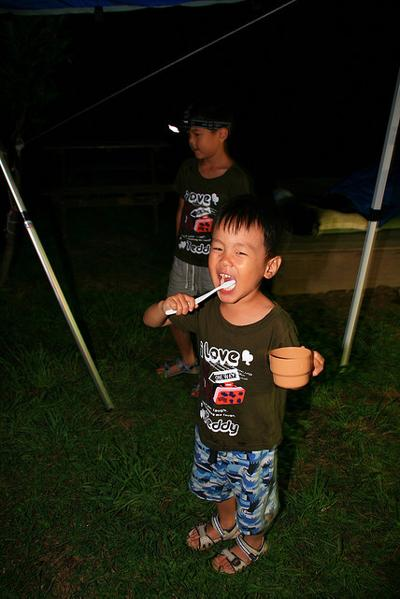person: (143, 178, 325, 579)
